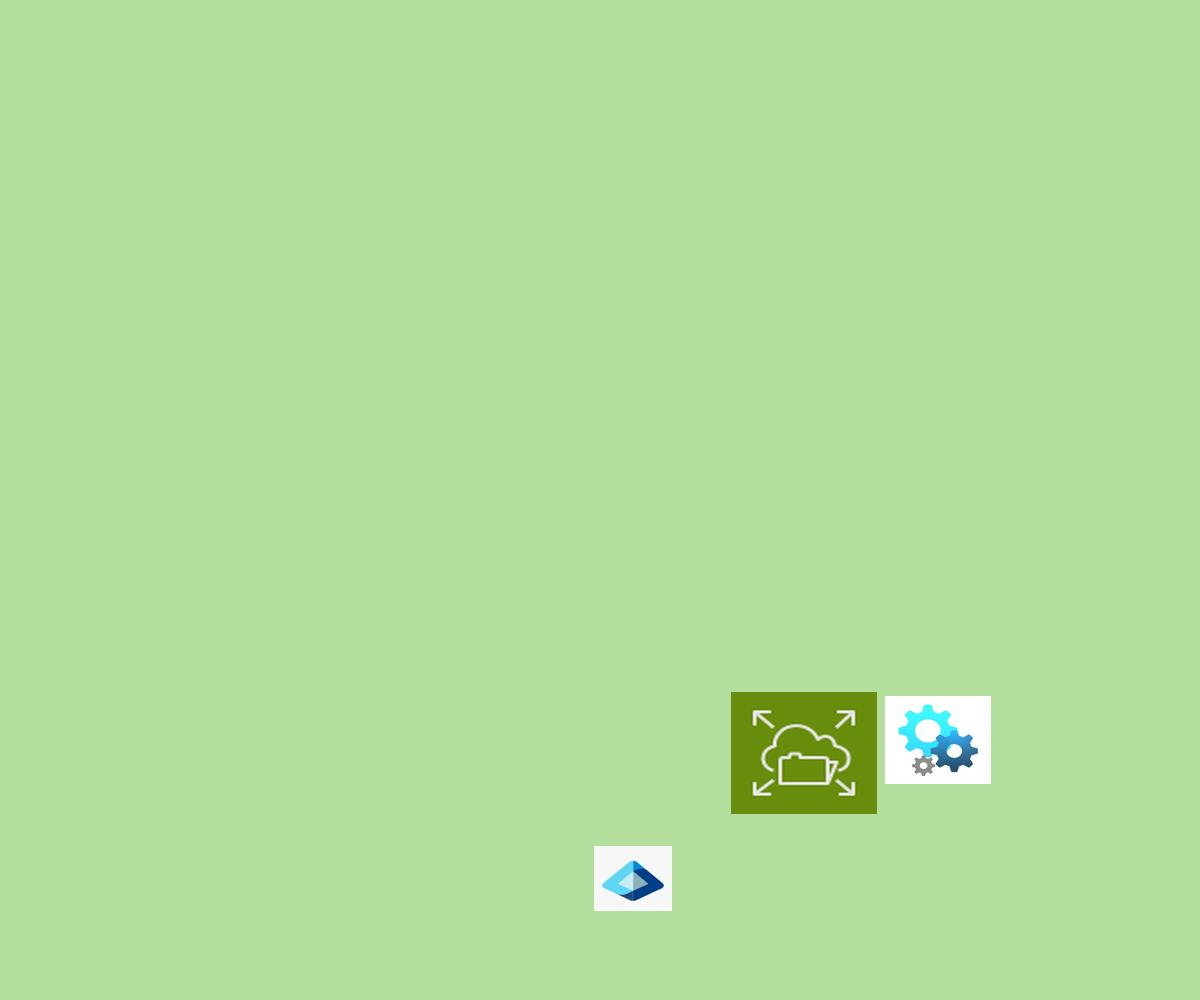AWS-EFS: (731, 692, 877, 814)
Azure_api: (885, 696, 991, 784)
Azure_microsoft_entra: (594, 846, 672, 911)
